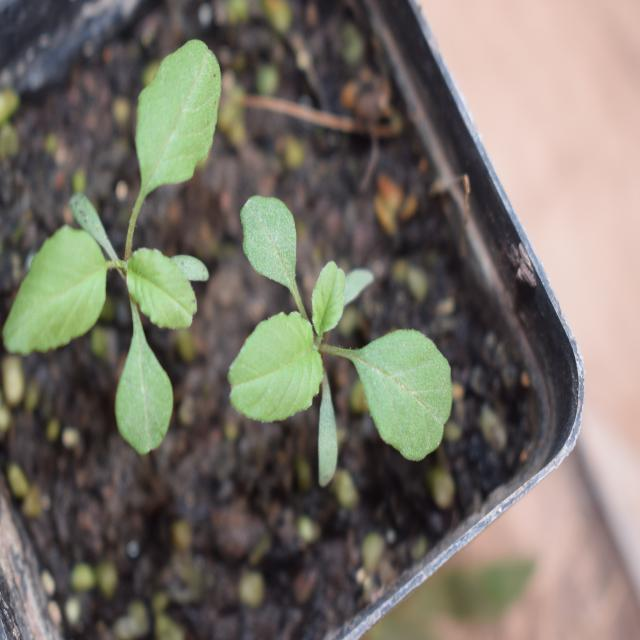pigweed: (9, 32, 219, 434), (220, 184, 463, 483)
